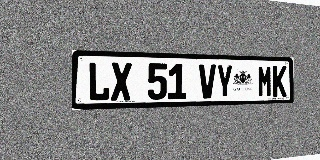1: (168, 63, 186, 99)
5: (148, 63, 167, 100)
K: (273, 66, 287, 97)
L: (88, 62, 110, 101)
M: (258, 65, 272, 97)
V: (199, 64, 216, 99)
X: (111, 62, 132, 101)
Y: (216, 64, 233, 98)
